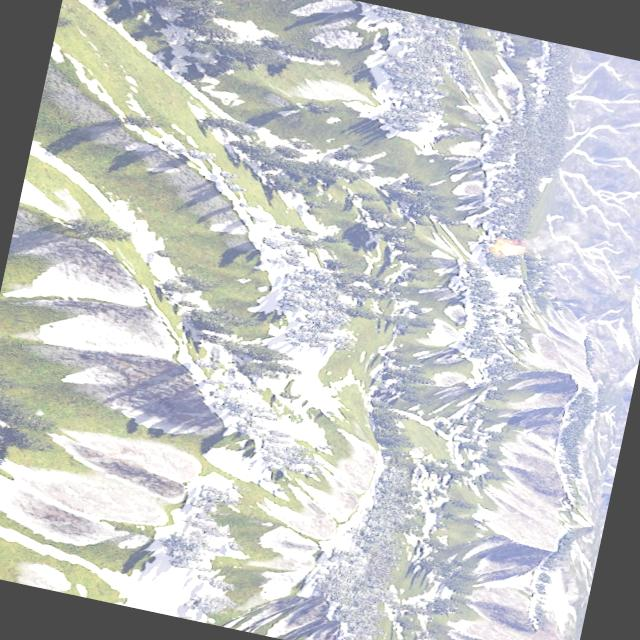fire: (492, 240, 522, 260)
smoke: (518, 226, 572, 264)
